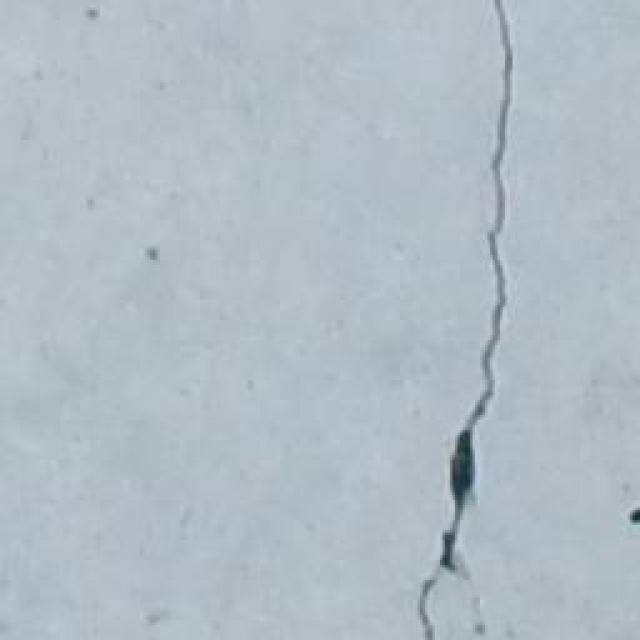concrete-crack: (413, 0, 516, 640)
